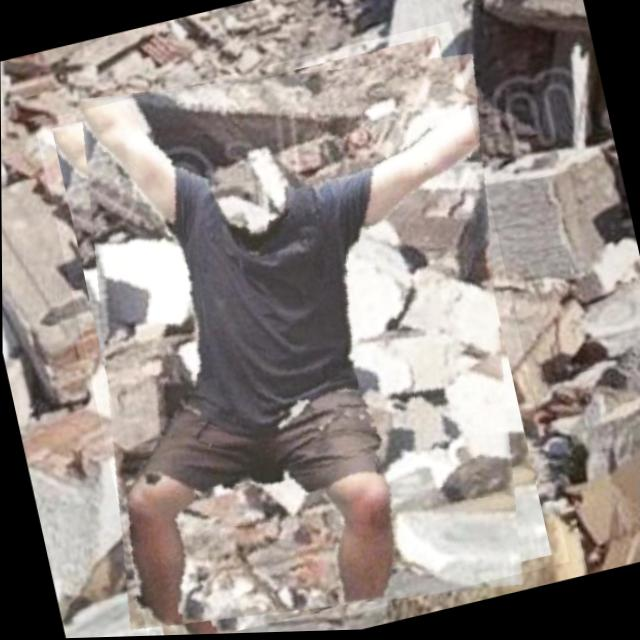Person in Rubble: (33, 21, 569, 639)
